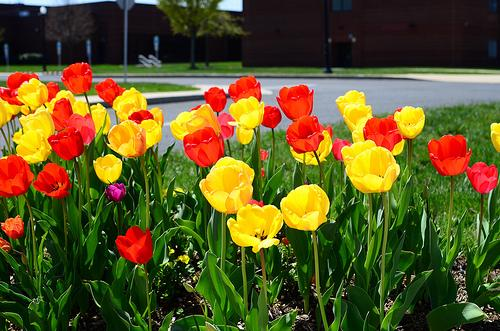tulip: (200, 158, 253, 213), (228, 205, 285, 250), (345, 149, 400, 191), (280, 185, 329, 229), (430, 133, 472, 176), (182, 127, 225, 165), (108, 119, 147, 159), (0, 154, 33, 196), (116, 226, 154, 262), (286, 117, 325, 152), (276, 84, 316, 117), (34, 163, 72, 196), (229, 97, 266, 128), (50, 129, 83, 160), (61, 61, 92, 93), (469, 161, 498, 192), (94, 154, 123, 181), (204, 87, 227, 110)
